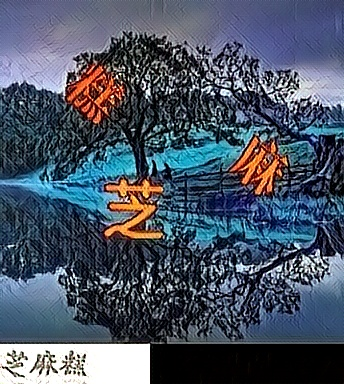B8E2: (62, 61, 126, 127)
C2E9: (227, 133, 291, 199)
D6A5: (103, 175, 167, 241)
